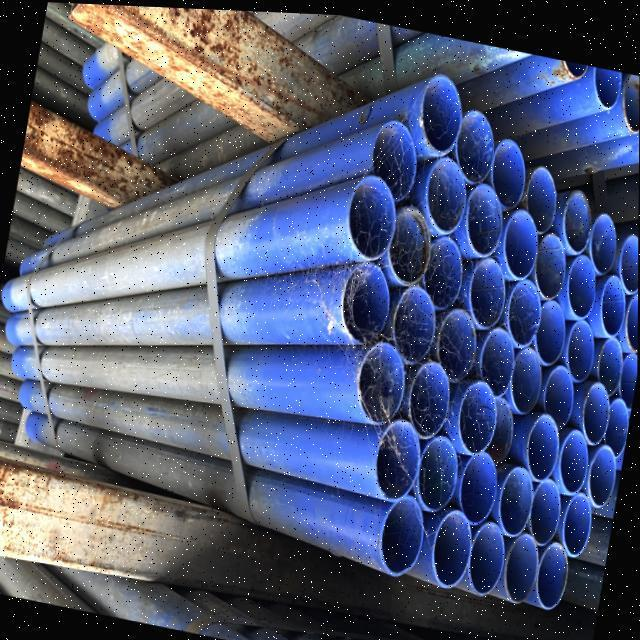pipe: (341, 257, 393, 343), (369, 116, 420, 201), (382, 280, 435, 361), (347, 171, 396, 256), (359, 339, 407, 423), (420, 225, 463, 315), (379, 487, 424, 571), (383, 200, 429, 282), (433, 498, 478, 581), (375, 417, 422, 495), (433, 297, 477, 379), (451, 102, 495, 183), (421, 152, 466, 231), (406, 354, 451, 432), (463, 506, 505, 589), (418, 69, 462, 148), (456, 373, 500, 450), (517, 157, 557, 241), (495, 200, 539, 274), (489, 132, 525, 221), (458, 443, 499, 521), (417, 431, 459, 507), (497, 457, 536, 537), (466, 252, 509, 324), (465, 175, 504, 254), (532, 221, 572, 295), (531, 464, 565, 548), (477, 319, 515, 393), (543, 352, 576, 436), (506, 272, 545, 343), (507, 337, 543, 409), (525, 407, 562, 476), (536, 289, 569, 366), (585, 202, 619, 273), (536, 537, 571, 605), (577, 372, 608, 446), (559, 180, 593, 247), (564, 313, 598, 378), (486, 387, 515, 461), (566, 247, 598, 313), (560, 486, 592, 550), (506, 529, 536, 594), (557, 424, 586, 486), (588, 438, 616, 502), (600, 266, 627, 332), (594, 328, 622, 391), (605, 392, 630, 452), (617, 342, 638, 404), (619, 225, 639, 287), (620, 67, 640, 129), (621, 281, 638, 343), (594, 63, 617, 106)
